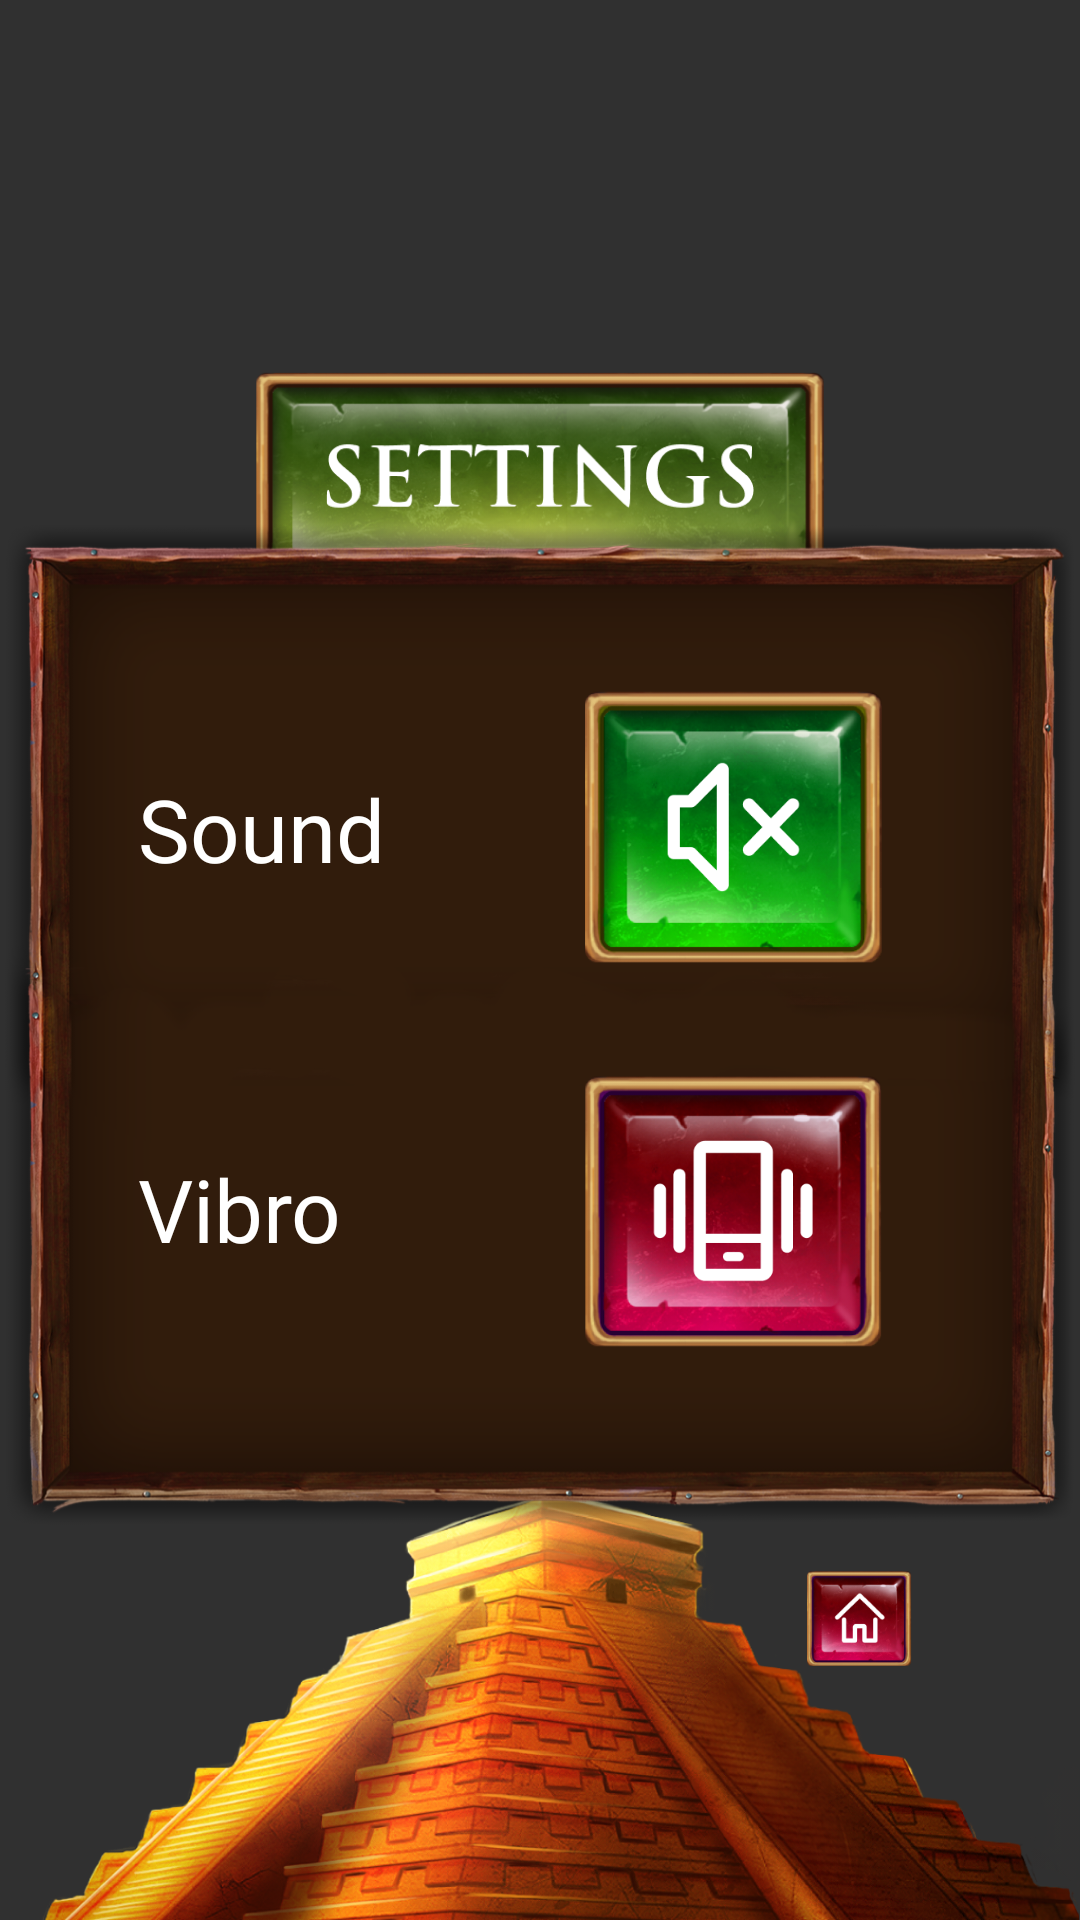

Where icons sit on this 1080px×1920px app screen, as Rect(x1, y1, x2, y2):
home: Rect(807, 1571, 911, 1666)
sound off: Rect(585, 692, 882, 963)
vibro on: Rect(585, 1077, 881, 1346)
